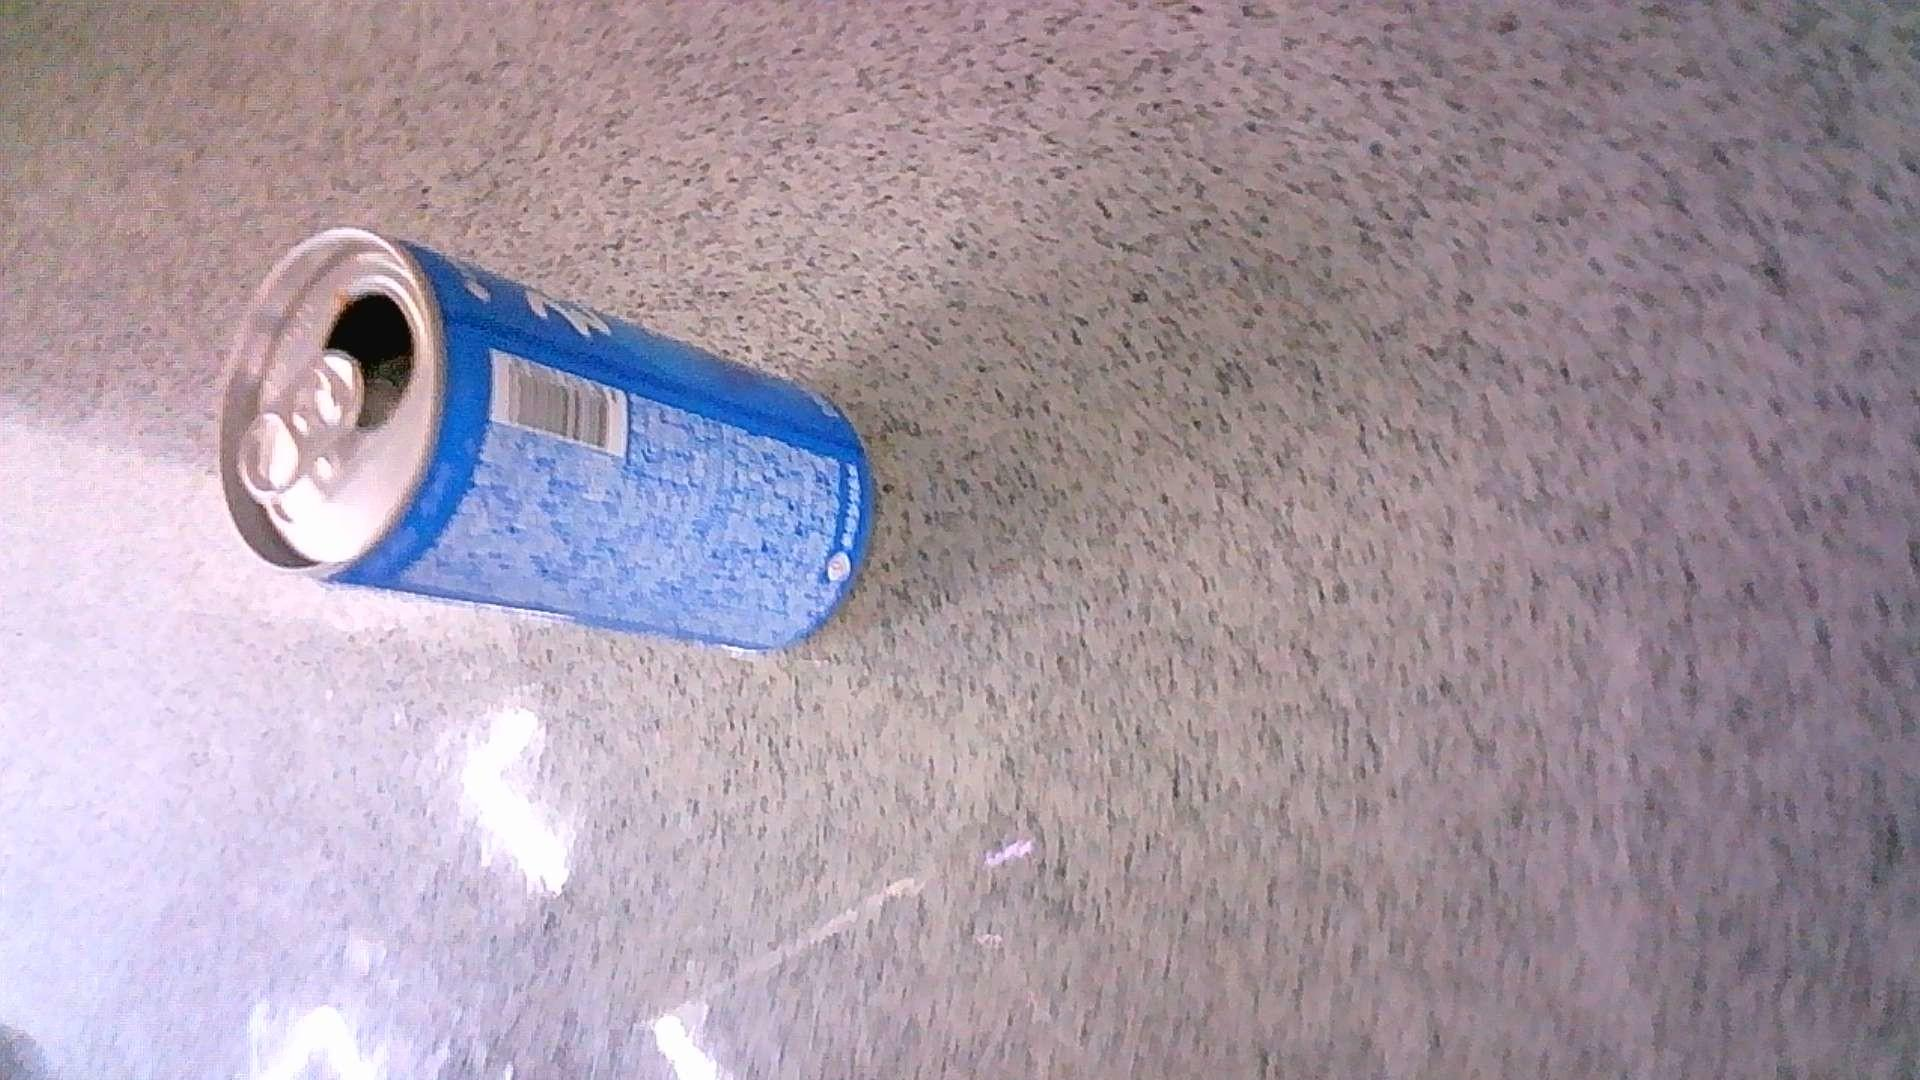letsbe: (216, 225, 873, 653)
